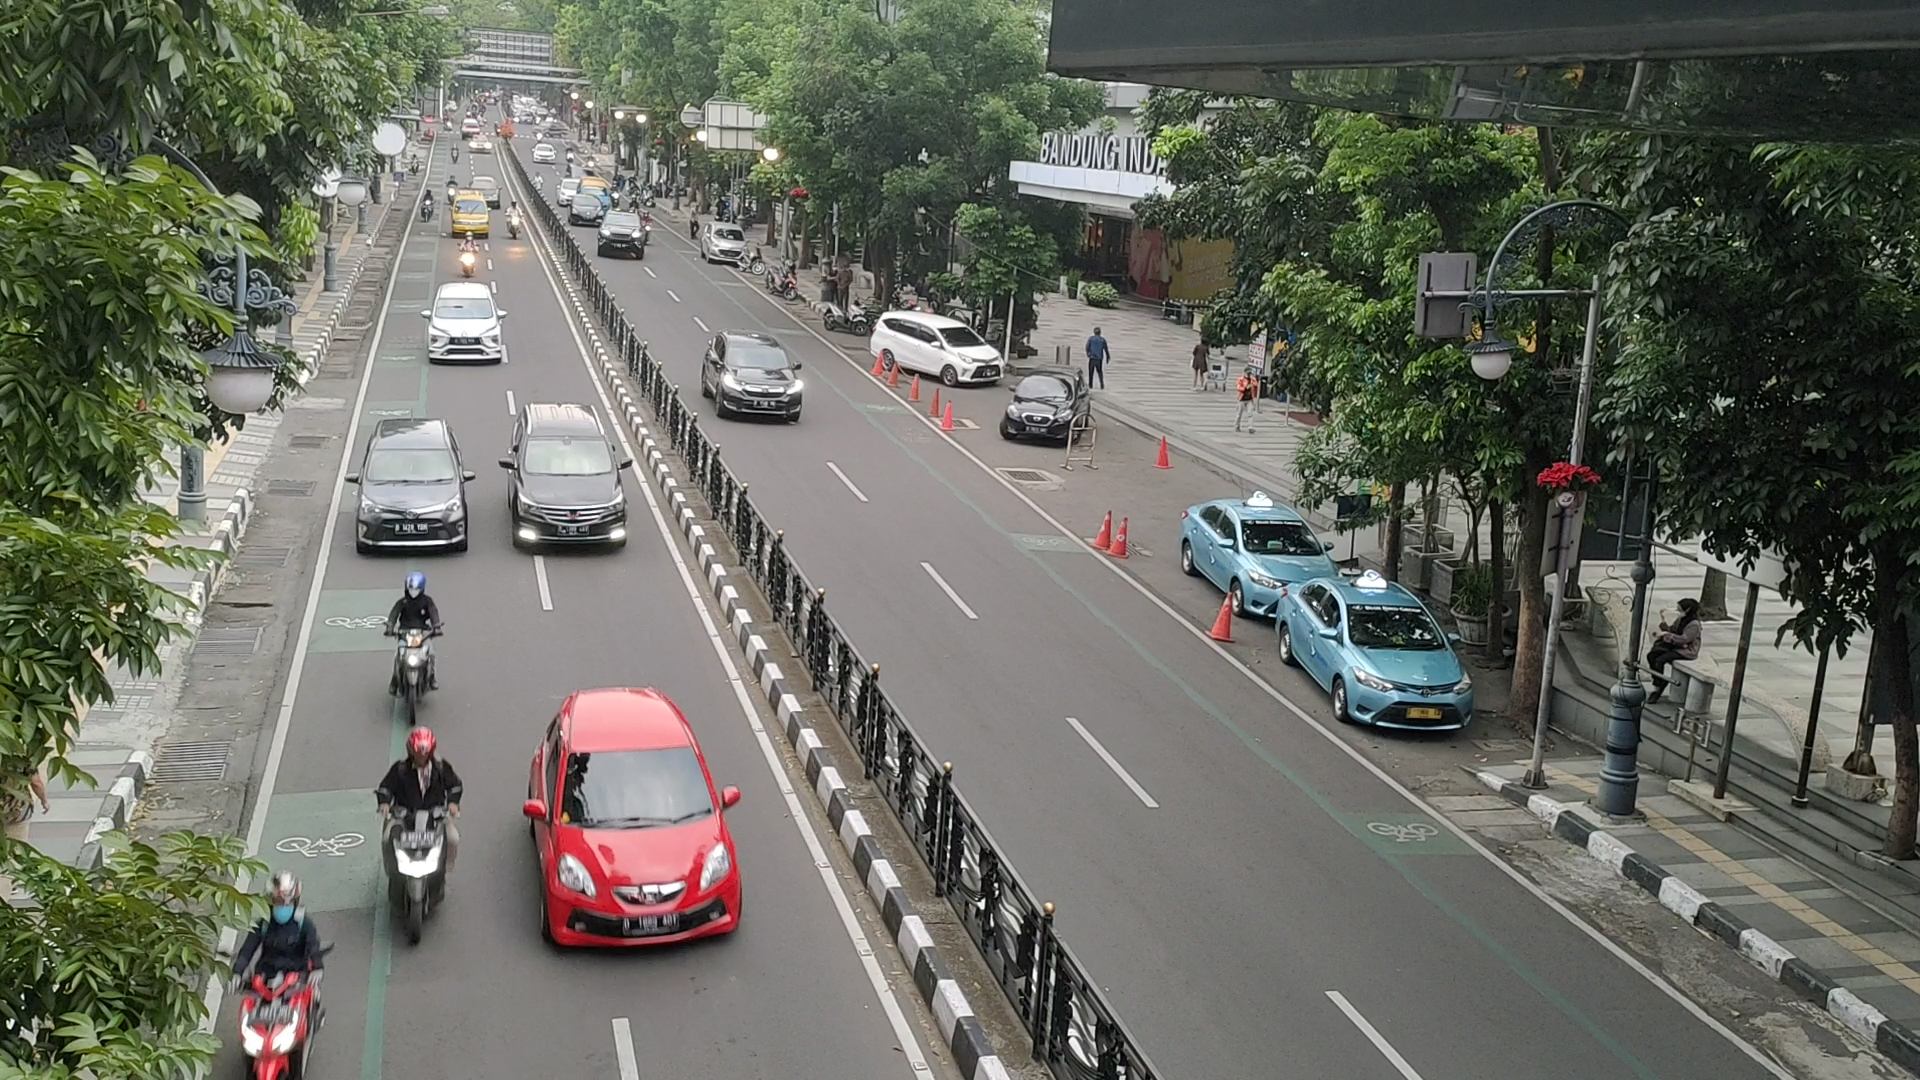mobil: (524, 741, 746, 955), (1328, 597, 1478, 742), (353, 438, 468, 563), (512, 431, 622, 556), (711, 338, 804, 425), (1001, 369, 1087, 450), (928, 319, 1015, 394), (421, 291, 506, 367)
motor: (218, 876, 334, 1080), (373, 727, 463, 945), (378, 572, 446, 724)
